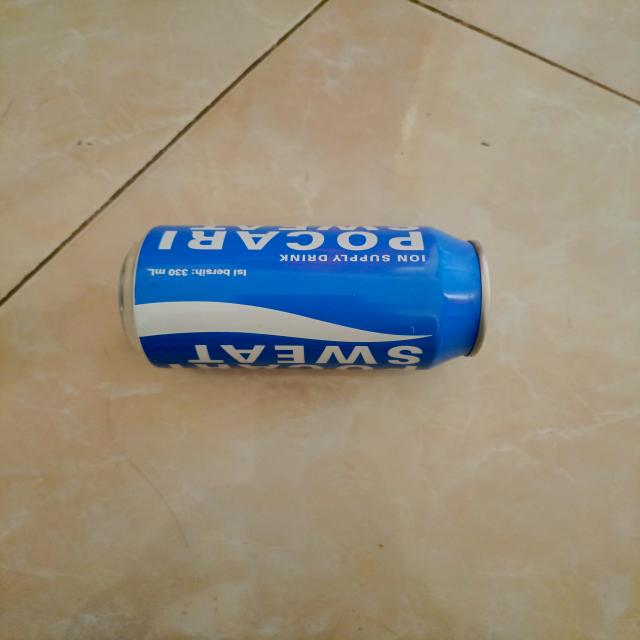pocari-sweat: (115, 225, 494, 372)
